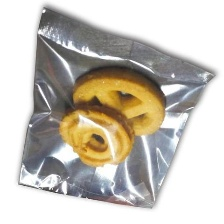snack: (10, 0, 223, 214)
